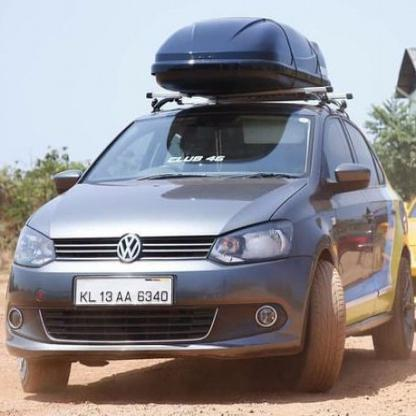license_plate: (76, 275, 172, 305)
